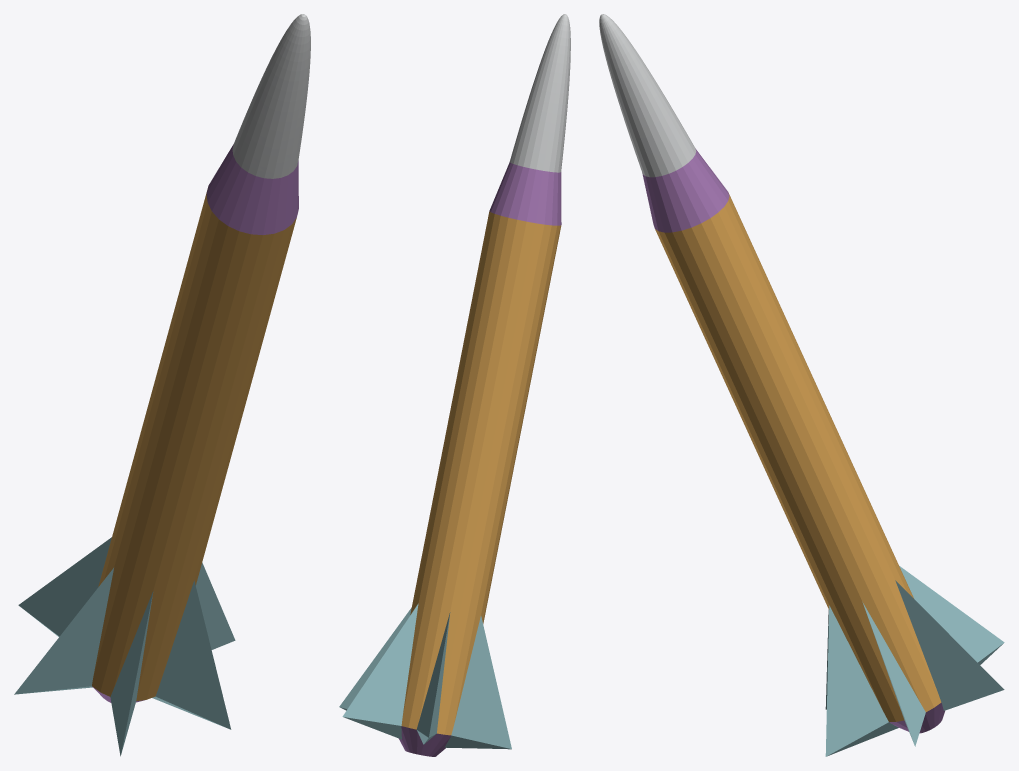
File: Ingenious Jaiks-Borwo.glb
The picture shows the model from 3 angles, left to right: view 1: azimuth 30°, elevation 25°; view 2: azimuth 150°, elevation 25°; view 3: azimuth 270°, elevation 25°; orthographic projection. The views are drawn at different scales.
Visible parts, largest first — view 1: Mesh_Mesh_head_geo.001_lambert2SG.001; view 2: Mesh_Mesh_head_geo.001_lambert2SG.001; view 3: Mesh_Mesh_head_geo.001_lambert2SG.001.
Part boxes in pixels (x1=…): Mesh_Mesh_head_geo.001_lambert2SG.001: x1=14, y1=14, x2=310, y2=756; Mesh_Mesh_head_geo.001_lambert2SG.001: x1=339, y1=14, x2=570, y2=756; Mesh_Mesh_head_geo.001_lambert2SG.001: x1=599, y1=14, x2=1004, y2=756.
Size of the model in its own units: 3.8 by 13.48 by 6.89.
